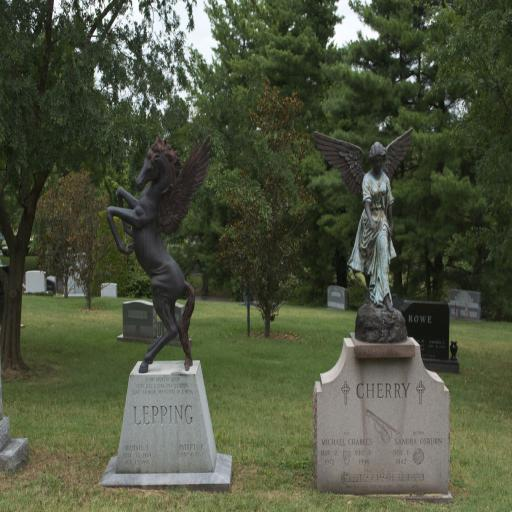horse: (104, 130, 216, 372)
